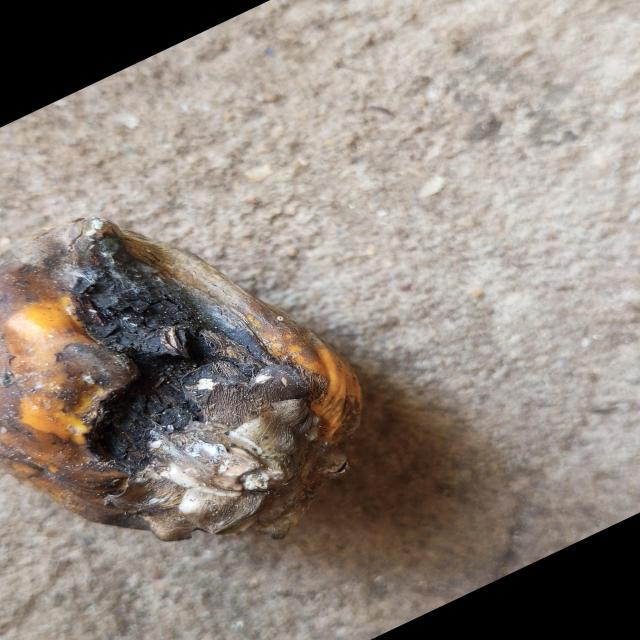damaged: (0, 218, 364, 543)
